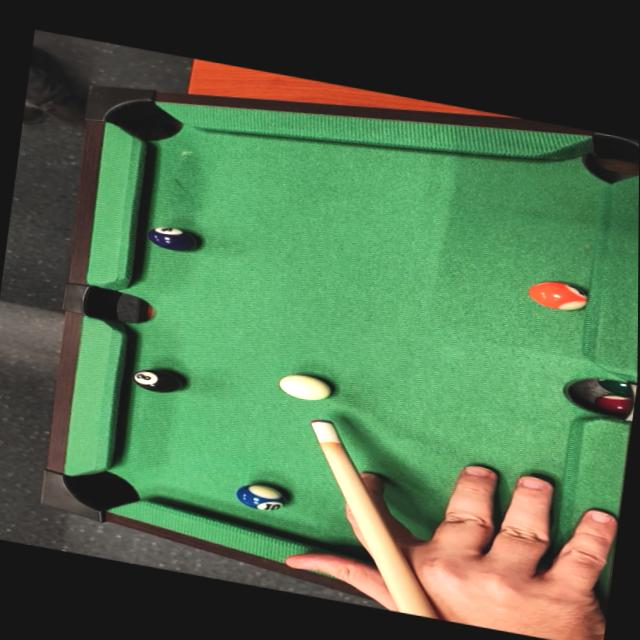cue ball: (275, 368, 336, 405)
other: (525, 275, 587, 315), (234, 477, 289, 516), (142, 220, 199, 255), (129, 362, 184, 398)
